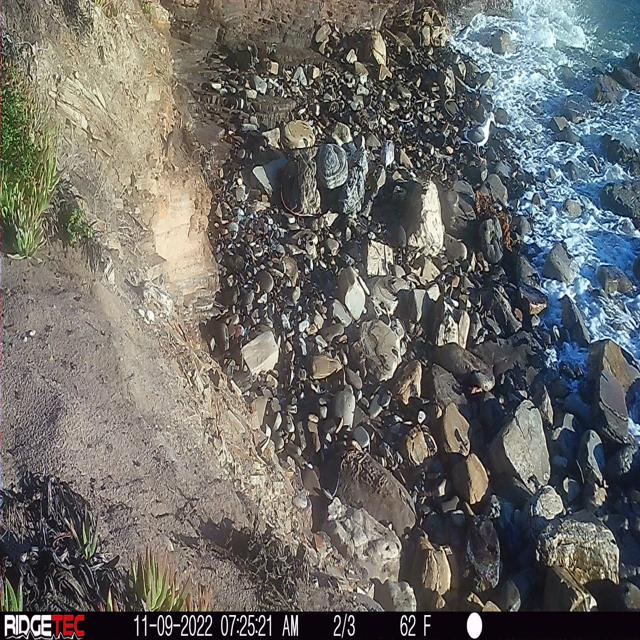bird: (374, 127, 401, 176)
